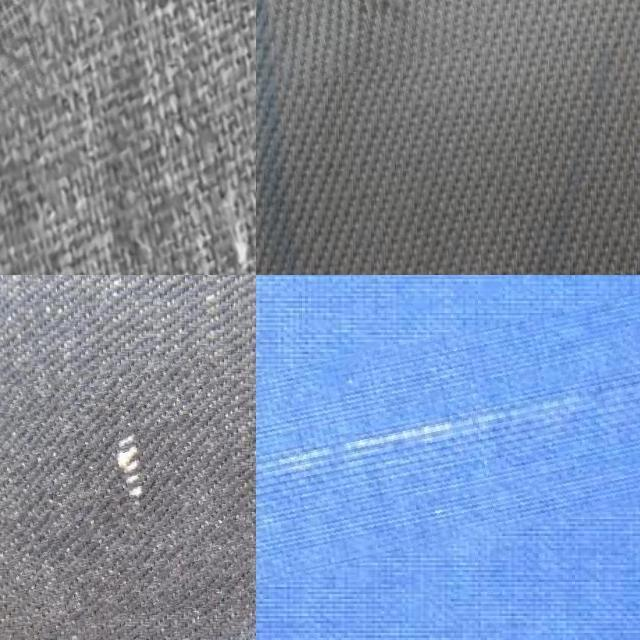Thread_other: (256, 308, 640, 579), (0, 357, 247, 629), (260, 0, 482, 77)
